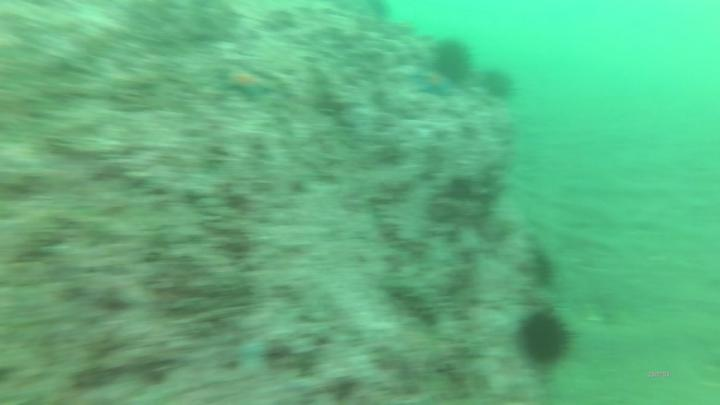echinus: (522, 309, 573, 371), (430, 37, 476, 82), (485, 66, 519, 104)
holothurian: (384, 269, 439, 329)
starfish: (223, 66, 275, 102), (415, 71, 458, 100)
